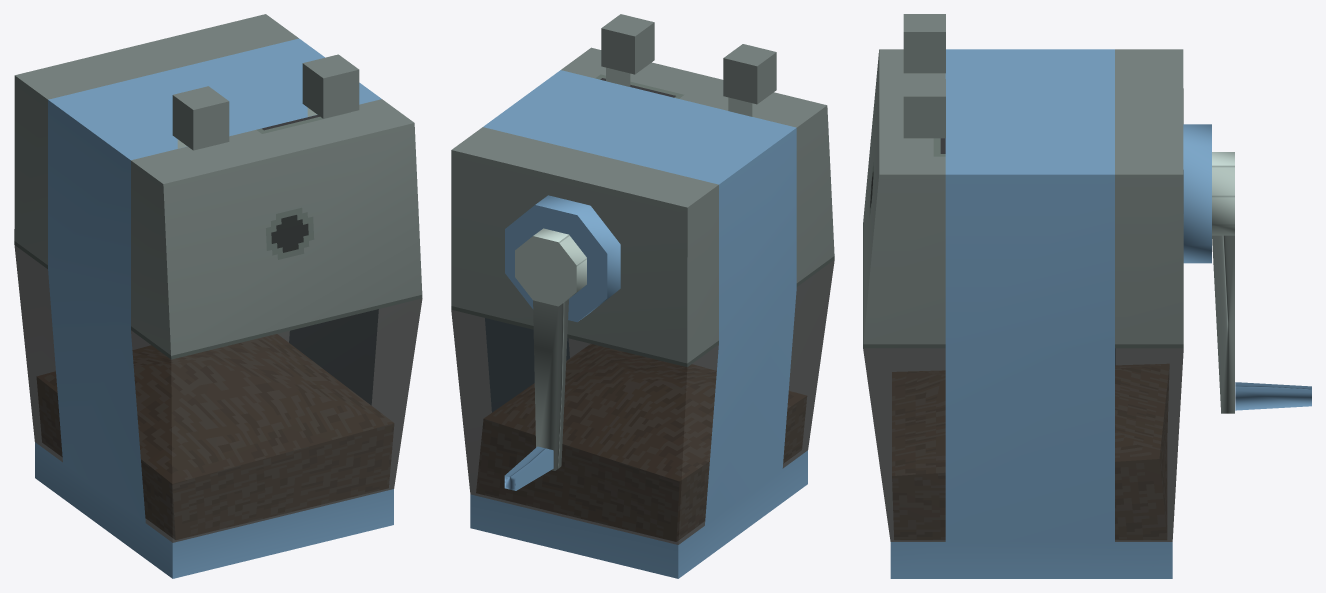
Rendered from 038d_Pencil_Sharpener.glb.
3 views of the same model, side by side, from view 1: azimuth 30°, elevation 25°; view 2: azimuth 150°, elevation 25°; view 3: azimuth 270°, elevation 25° (orthographic). The views are drawn at different scales.
Parts seen in each view (by area): view 1: part_0; view 2: part_0, part_1; view 3: part_0, part_1.
Part boxes in pixels (box(x1,y1,x2,y2)): part_0: box(14, 14, 422, 578); part_0: box(451, 14, 834, 578); part_1: box(504, 195, 620, 490); part_0: box(863, 14, 1183, 578); part_1: box(1183, 124, 1311, 413).
Bounding box in the file's own units: 0.08 × 0.1392 × 0.121.
2 materials, 2 textured.
